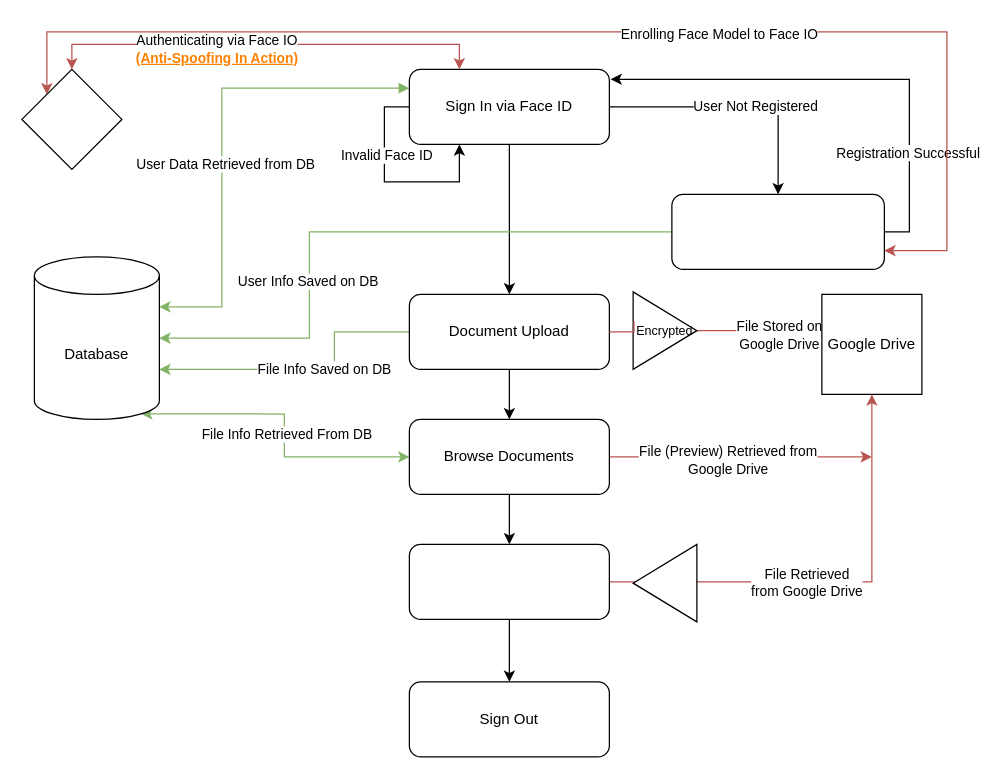
Some shapes in this 1001 by 779 pixel diagram are drawn without their labels. Each missing label, with the centre of its shape:
Decrypted: (664,582)
Download Document: (508,581)
Face IO: (71,118)
Register and Set Up Face ID: (777,231)
